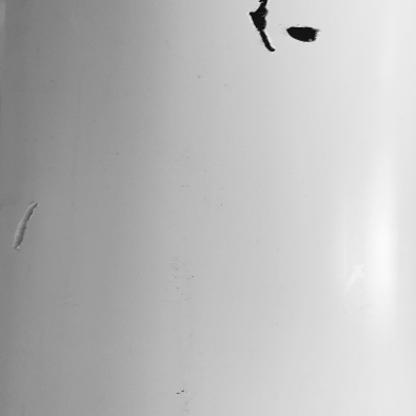kongdong: (249, 1, 277, 53), (288, 25, 320, 45)
sunshang: (14, 199, 42, 250)
